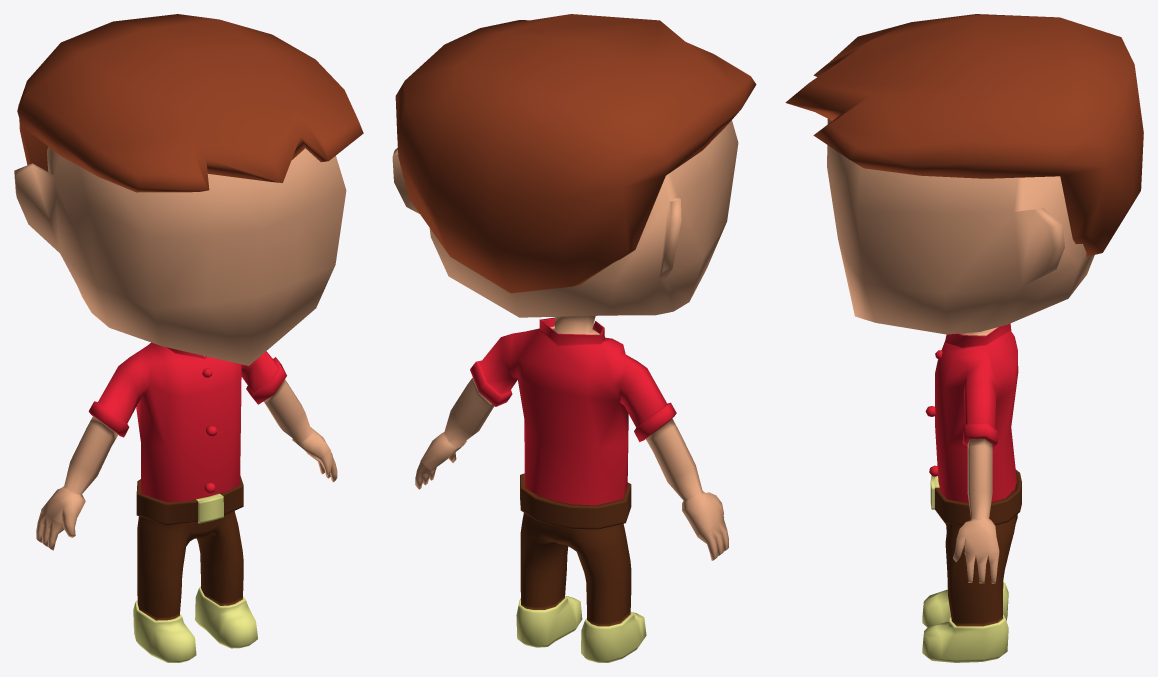
File: brock blockout v6.fbx
3 views of the same model, side by side, from view 1: azimuth 30°, elevation 25°; view 2: azimuth 150°, elevation 25°; view 3: azimuth 270°, elevation 25° (orthographic). The views are drawn at different scales.
Visible parts, largest first — view 1: Brock base.001; view 2: Brock base.001; view 3: Brock base.001.
Boxes of the visible parts, x1,y1,x2,y2 form: Brock base.001: (14,14,363,662); Brock base.001: (392,14,756,662); Brock base.001: (785,14,1143,662).
Size of the model in its own units: 236 by 455 by 248.
